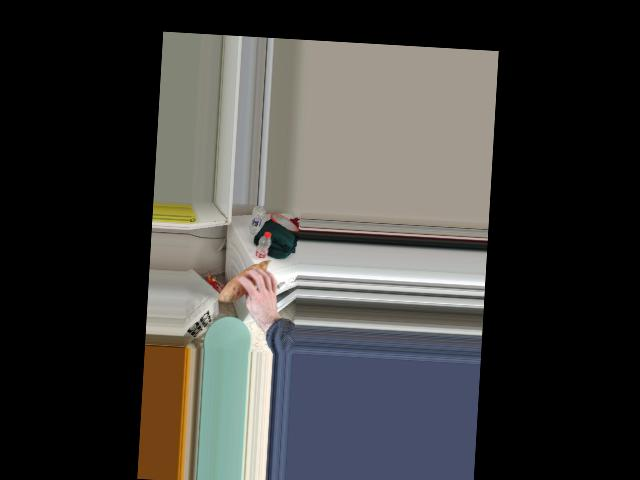sweet_potato: (221, 259, 273, 304)
